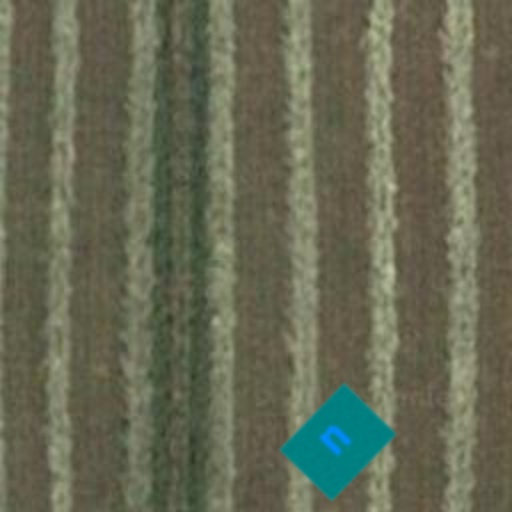rectangle: (270, 374, 406, 510)
